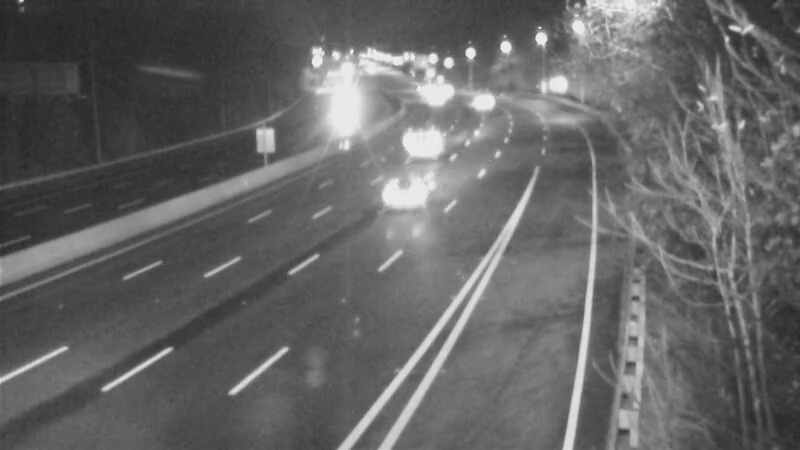vehicle: (362, 152, 442, 232), (395, 68, 445, 118), (414, 74, 464, 124), (453, 74, 503, 124), (404, 120, 454, 170)
